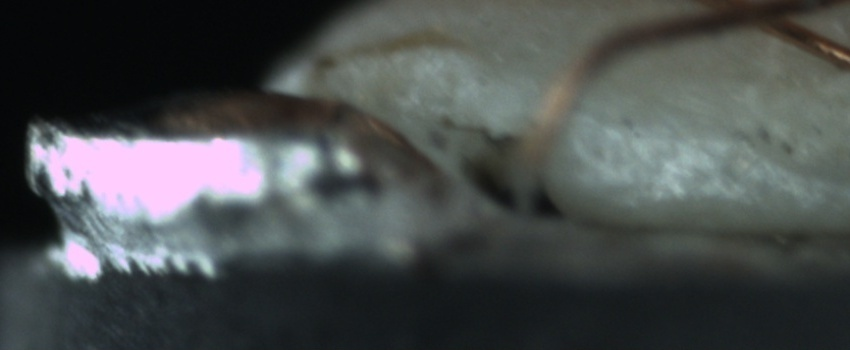CL: (708, 1, 826, 40)
